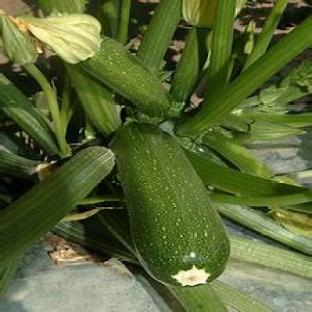Zucchini: (111, 123, 230, 285), (77, 37, 170, 117)
